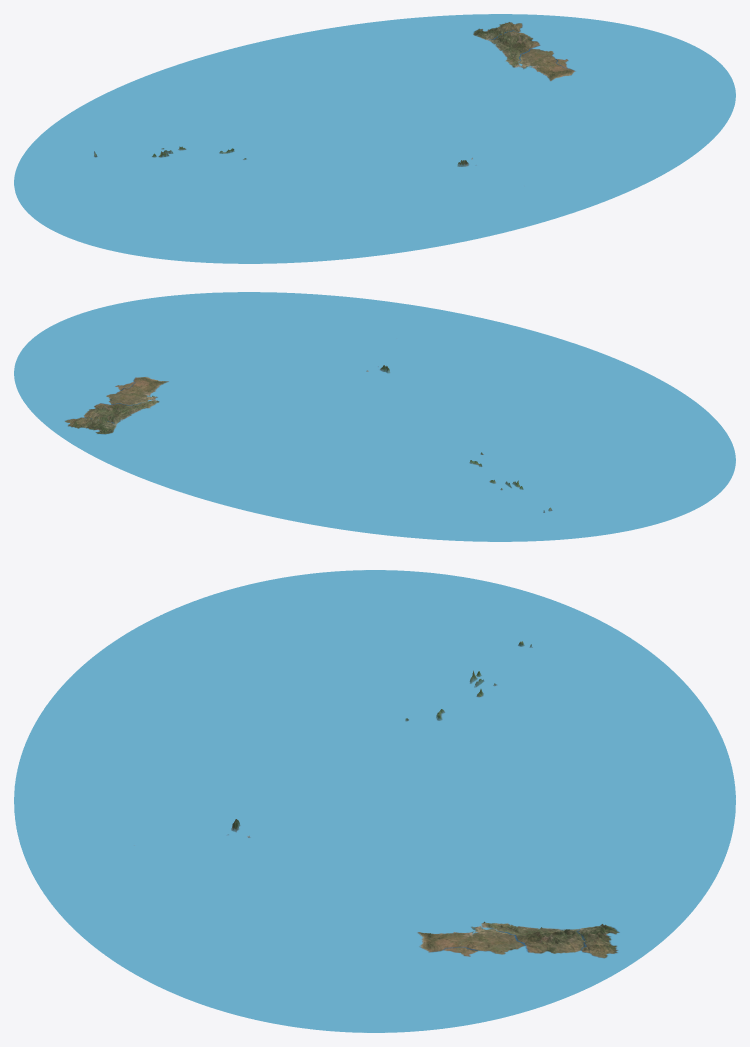
Rendered from PRT-previa-terrain.glb.
3 renders of one model, top to bottom at view 1: azimuth 30°, elevation 25°; view 2: azimuth 150°, elevation 25°; view 3: azimuth 270°, elevation 25°, orthographic. The views are drawn at different scales.
Parts seen in each view (by area): view 1: Portugal; view 2: Portugal; view 3: Portugal.
Part boxes in pixels (x1=…): Portugal: x1=14, y1=14, x2=735, y2=263; Portugal: x1=14, y1=292, x2=735, y2=541; Portugal: x1=14, y1=570, x2=735, y2=1032.
Size of the model in its own units: 2.43 by 0.0248 by 1.6.
Materials: 1 (1 with a texture image).
